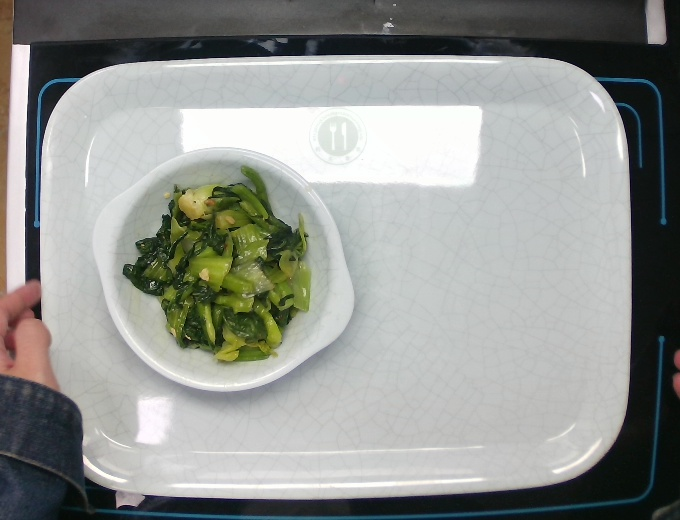JYsf-Shuang_Er_Wan: (87, 142, 358, 392)
